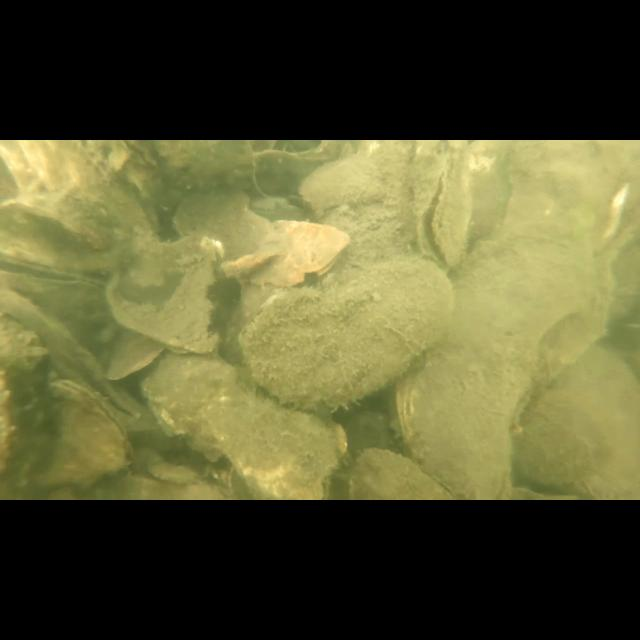Oyster-Closed: (401, 220, 619, 498), (242, 258, 456, 407), (135, 357, 349, 498), (520, 340, 640, 500), (104, 230, 230, 352), (171, 192, 283, 274), (234, 220, 354, 290), (352, 442, 456, 500), (0, 194, 100, 246), (301, 155, 393, 211), (160, 140, 254, 193), (94, 140, 164, 194), (100, 328, 166, 382)
Oyster-Open: (408, 141, 472, 267), (48, 376, 132, 472), (0, 250, 108, 296)
